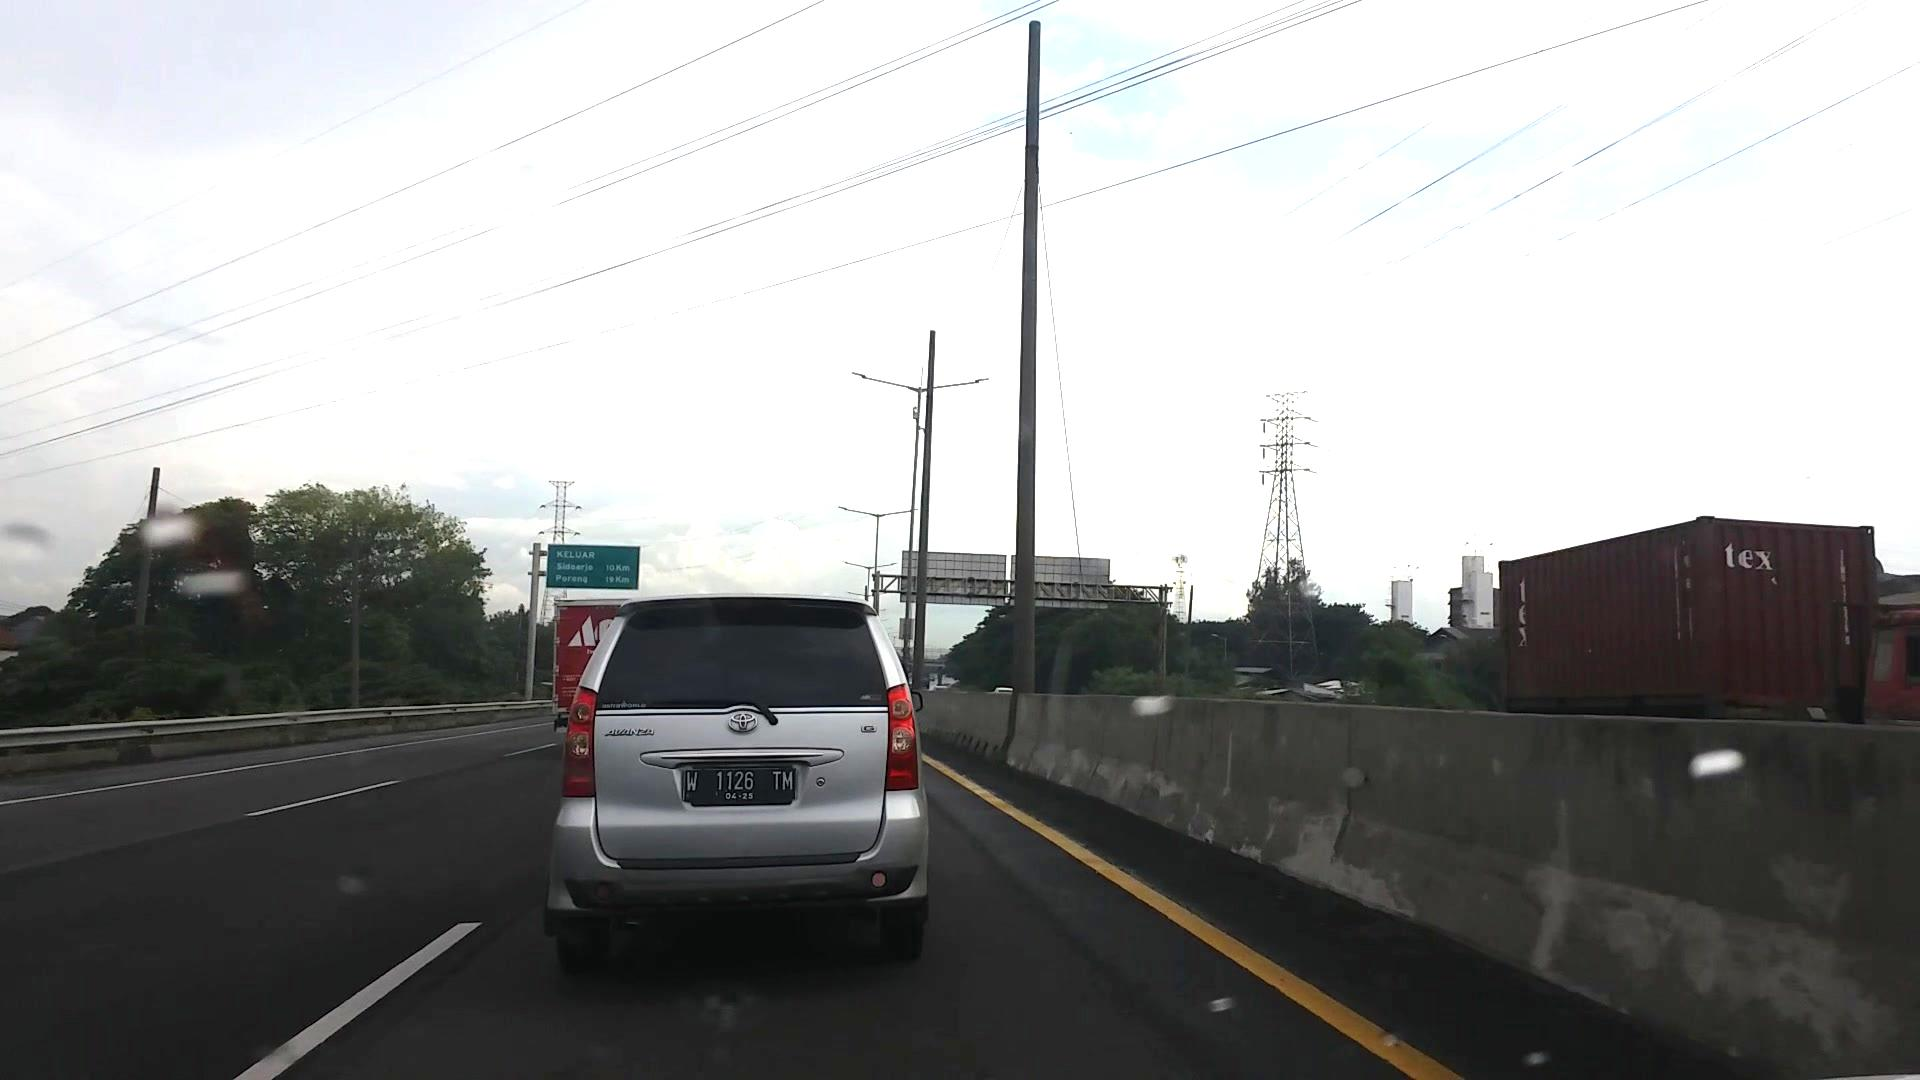plate_positive: (680, 767, 796, 804)
